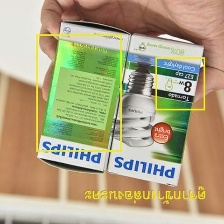carton: (102, 26, 206, 191), (35, 15, 134, 177)
